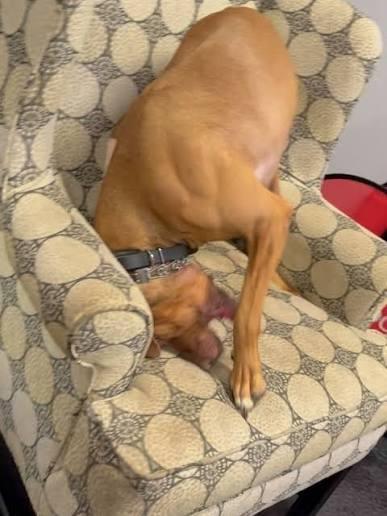adult_dog: (86, 5, 301, 409)
